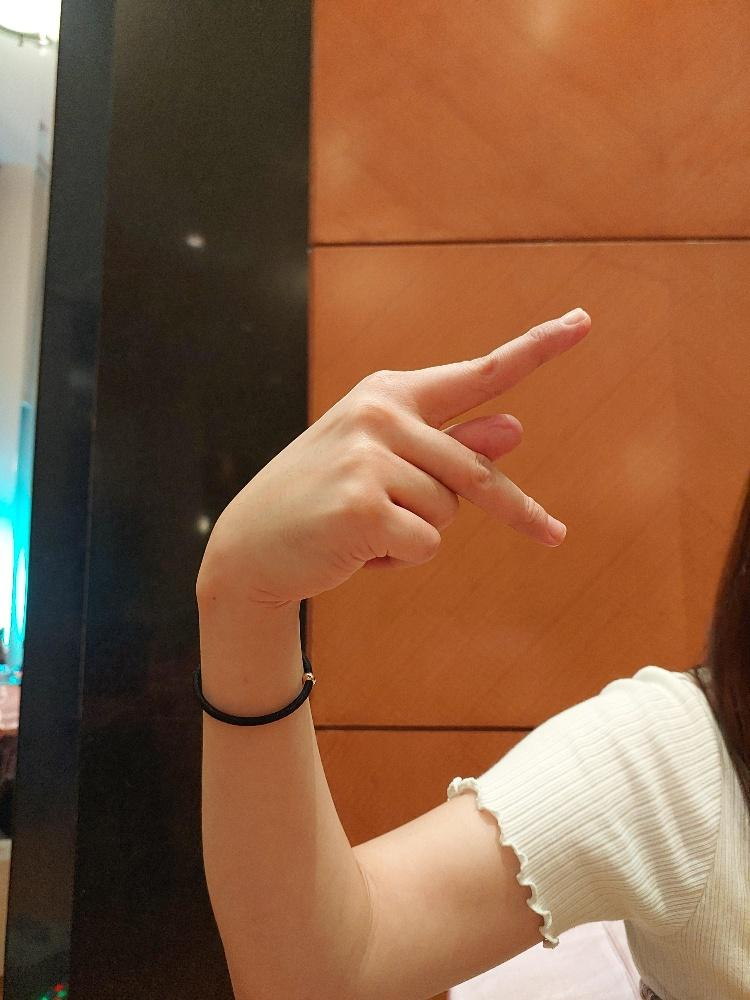k: (193, 305, 594, 606)
